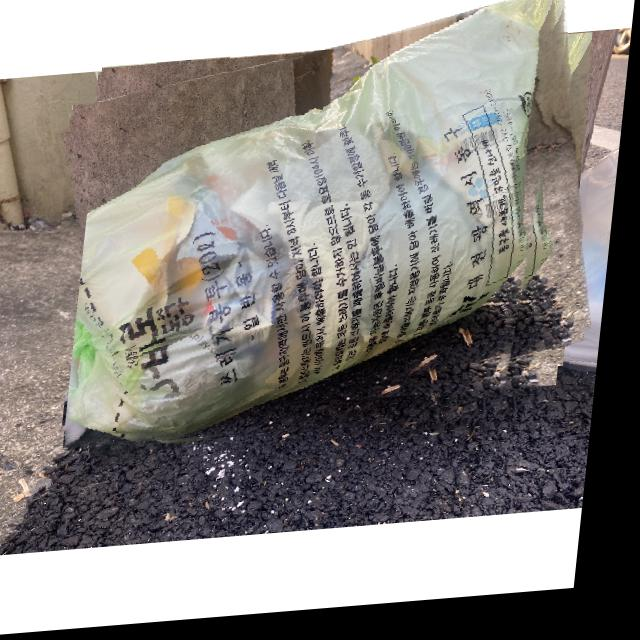general_trashbag: (82, 0, 555, 446)
other_trashbag: (73, 96, 585, 392)
